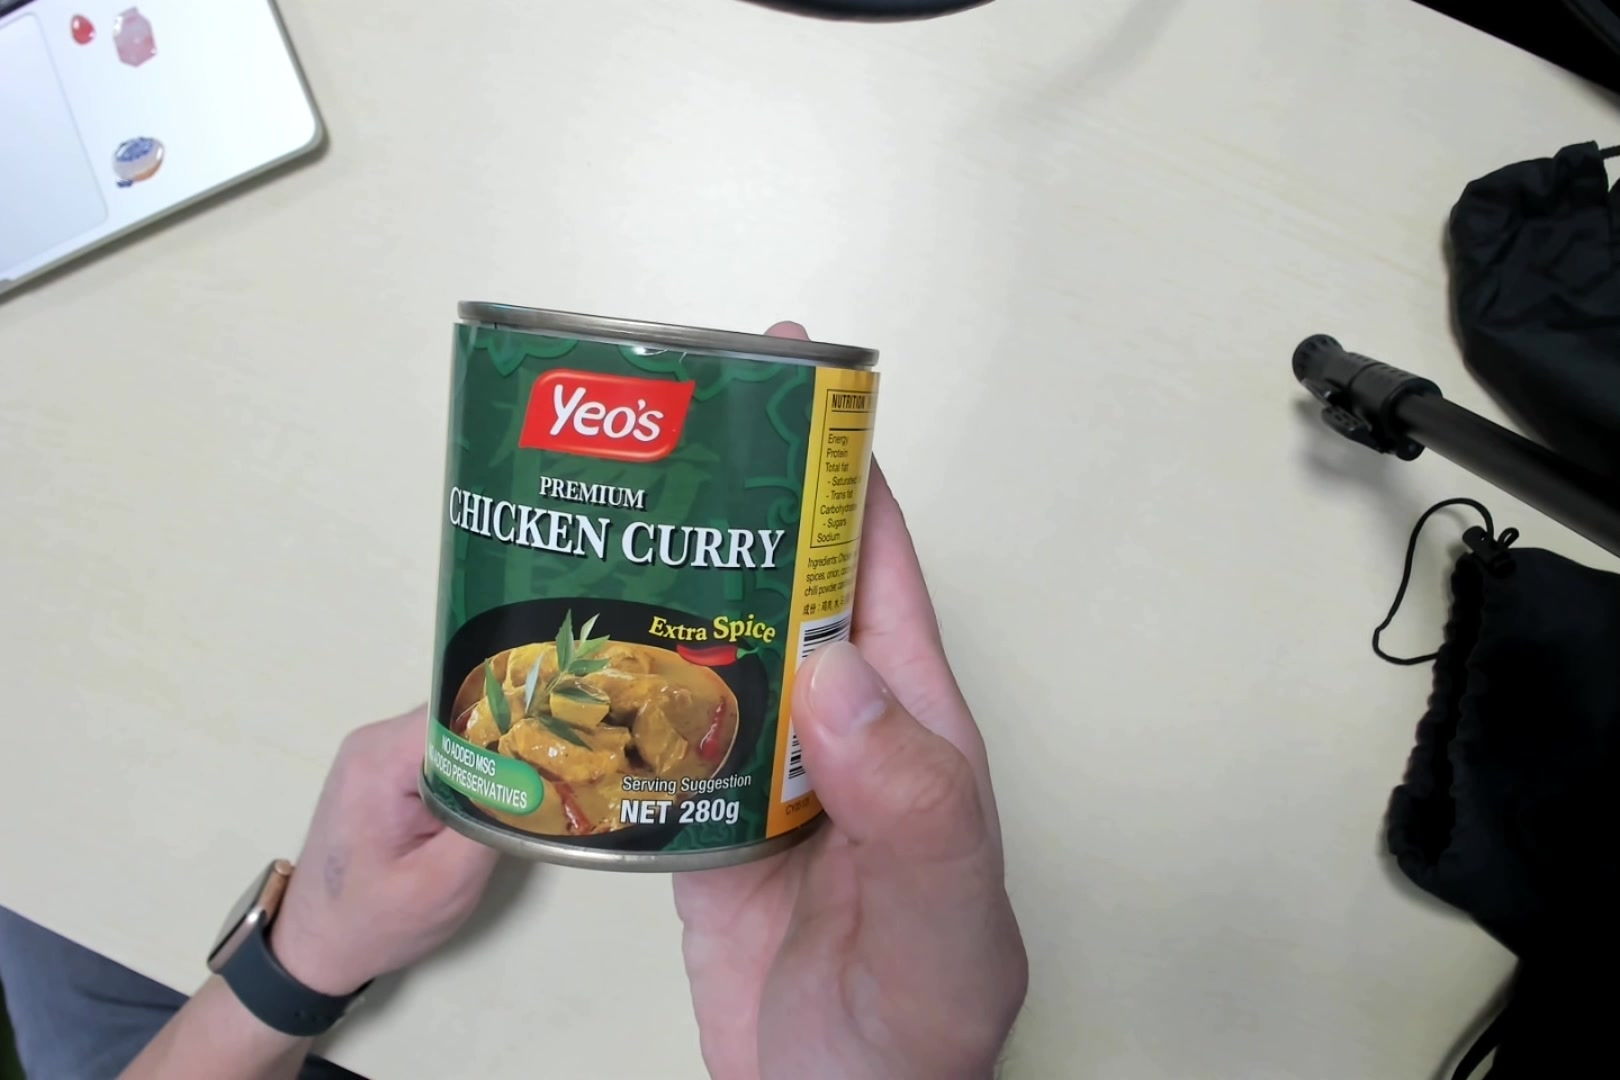CannedChicken_100-199g_Halal_NonHealthy: (430, 303, 873, 871)
